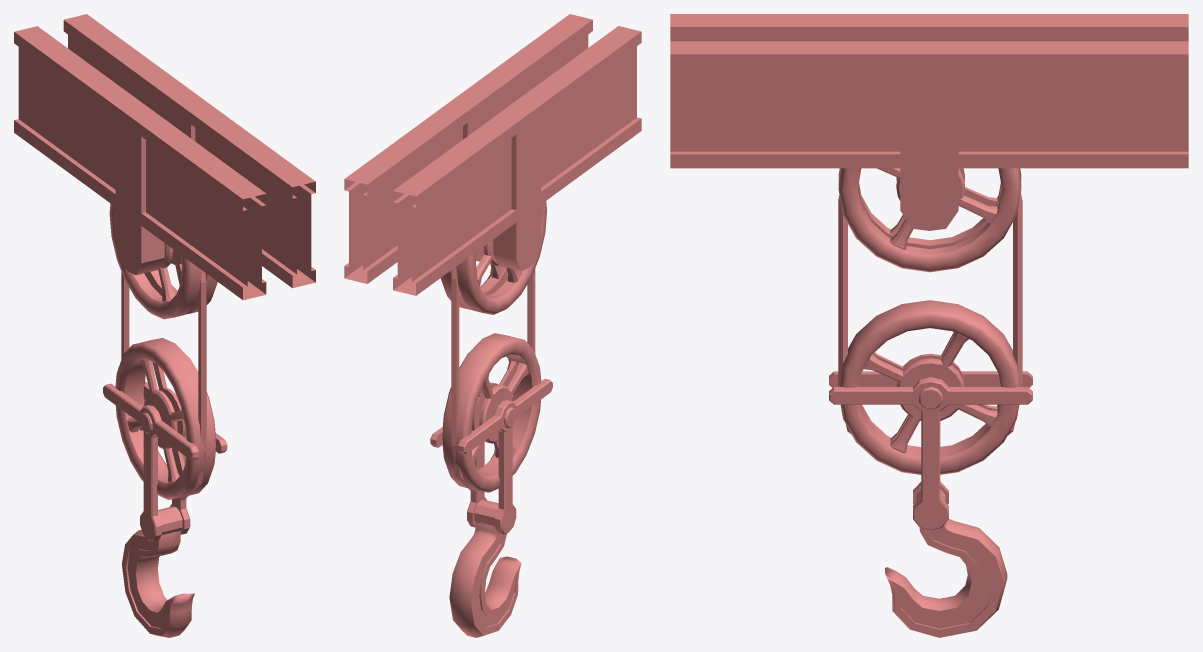
File: Generator_Hook.fbx
3 renders of one model, left to right at view 1: azimuth 30°, elevation 25°; view 2: azimuth 150°, elevation 25°; view 3: azimuth 270°, elevation 25°, orthographic. The views are drawn at different scales.
Visible parts, largest first — view 1: Generator_Hook_1; view 2: Generator_Hook_1; view 3: Generator_Hook_1.
Boxes of the visible parts, left/top/right/bottom form: Generator_Hook_1: left=14, top=14, right=315, bottom=637; Generator_Hook_1: left=344, top=14, right=641, bottom=637; Generator_Hook_1: left=670, top=14, right=1188, bottom=637.
Size of the model in its own units: 30.65 by 214 by 167.
